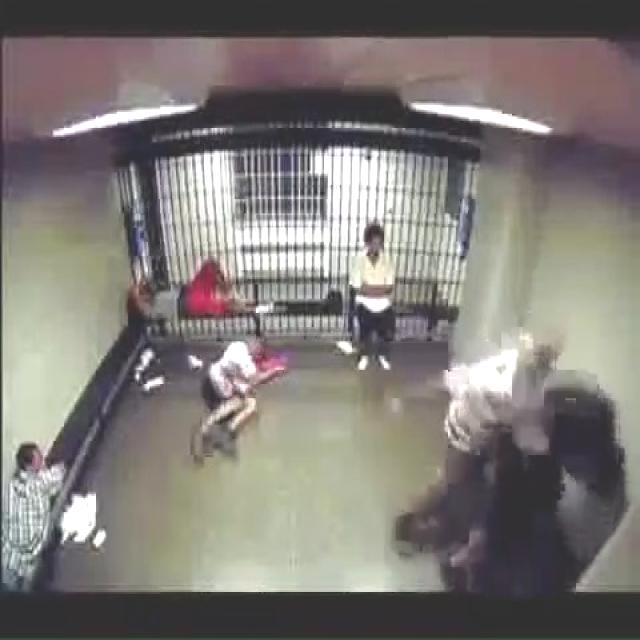fight: (408, 291, 629, 609)
